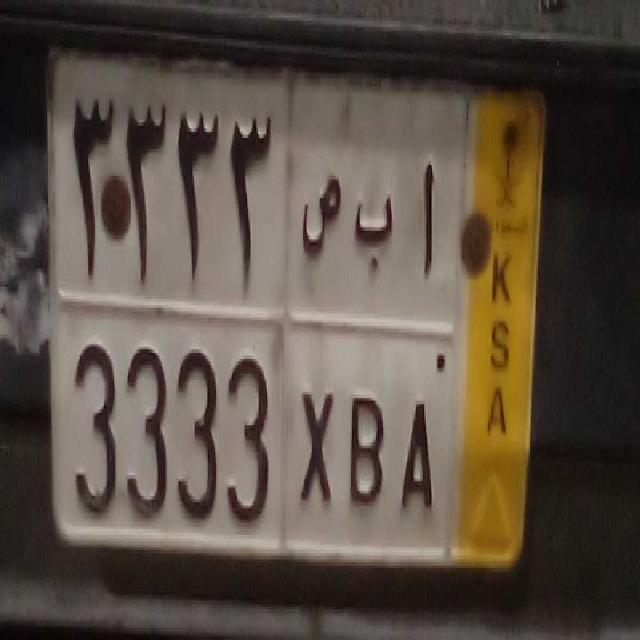license_plate: (54, 295, 459, 558)
